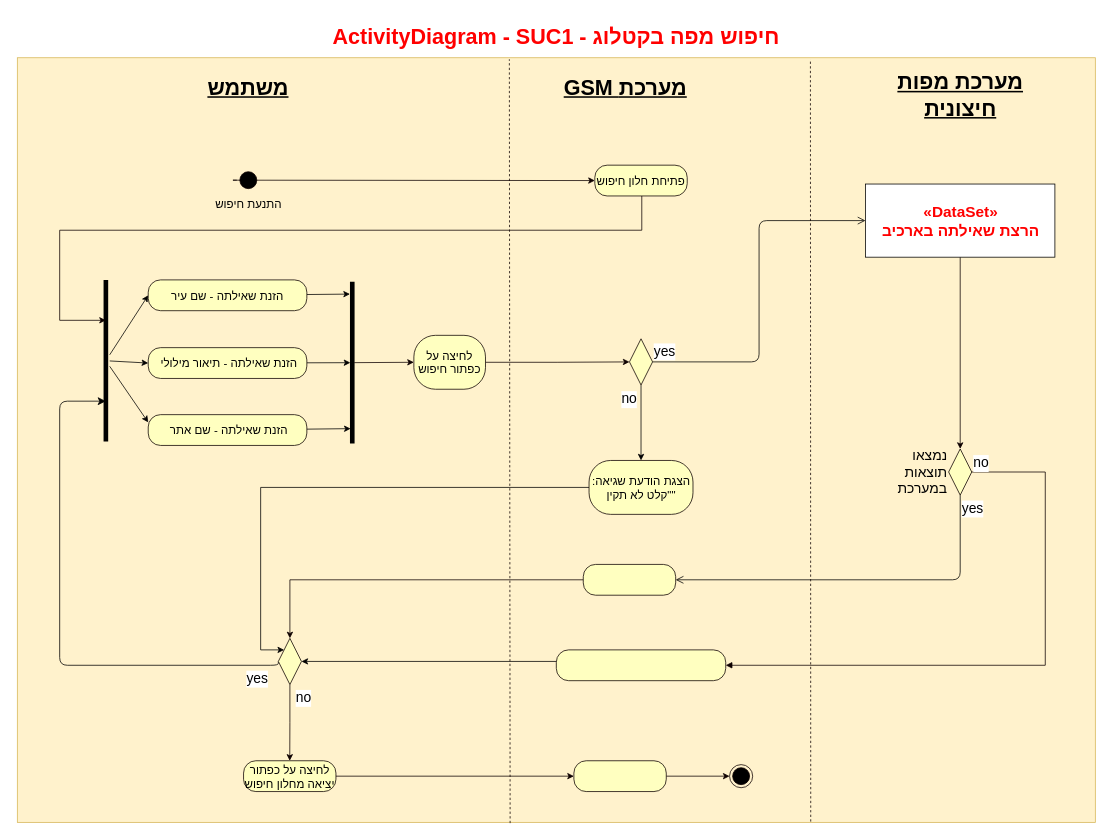
The diagram is 1112 pixels wide and 838 high, and some of its shapes have lost their labels. Here are the shapes that lost their labels. From the top down, the box of each, then its label:
(629, 338, 653, 385): קלט תקין
(583, 564, 676, 595): הצגת תוצאות
(278, 638, 301, 685): ביצוע חיפוש נוסף
(556, 649, 726, 681): תוצג הודעת שגיאה "לא נמצאו קבצים מתאימים בקטלוג"
(573, 760, 666, 792): סגירת חלון חיפוש
